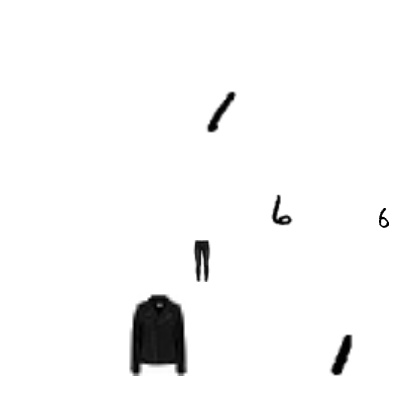1: (314, 327, 370, 383), (192, 84, 248, 140)
6: (258, 192, 300, 234), (369, 205, 397, 233)
Coat: (115, 292, 199, 376)
Trouser: (180, 240, 222, 282)
